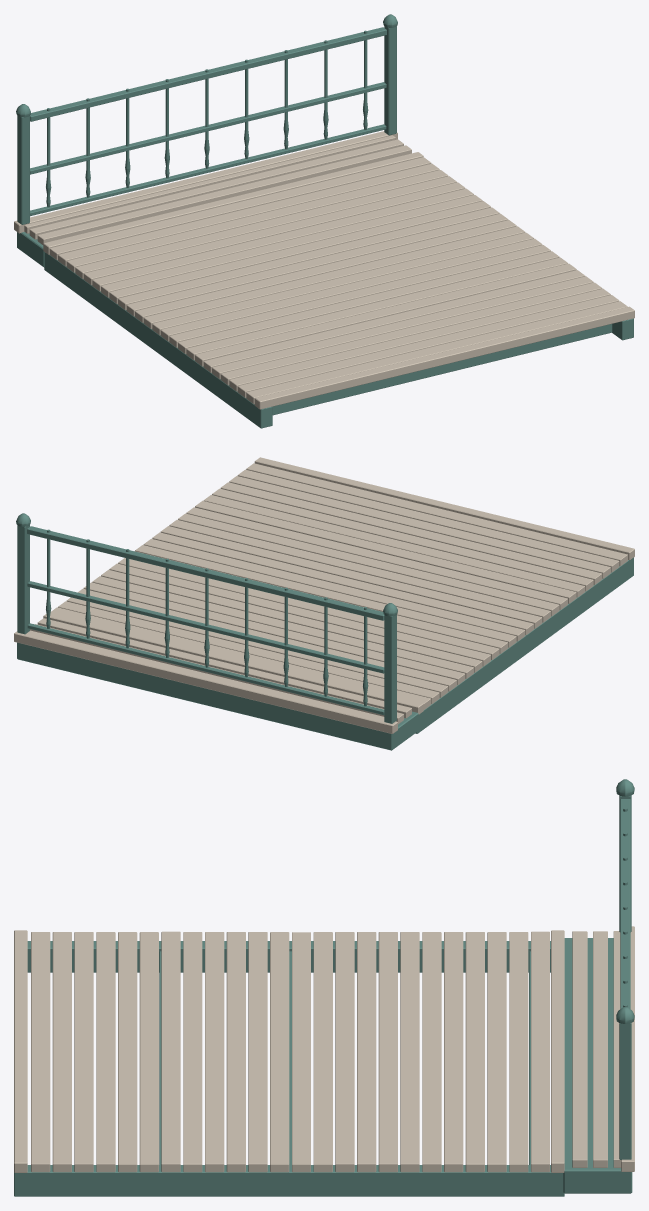
File: amusement-arcade-and-seaside-pier-pier-end-platform-addaa957__35389.glb
3 renders of one model, top to bottom at view 1: azimuth 30°, elevation 25°; view 2: azimuth 150°, elevation 25°; view 3: azimuth 270°, elevation 25°, orthographic. The views are drawn at different scales.
Parts seen in each view (by area): view 1: pier-end-platform; view 2: pier-end-platform; view 3: pier-end-platform.
Part boxes in pixels (bbox=[...]): pier-end-platform: bbox=[14, 14, 634, 428]; pier-end-platform: bbox=[14, 457, 634, 750]; pier-end-platform: bbox=[14, 779, 634, 1196].
Bounding box in the file's own units: 4.05 × 1.5 × 4.51.
